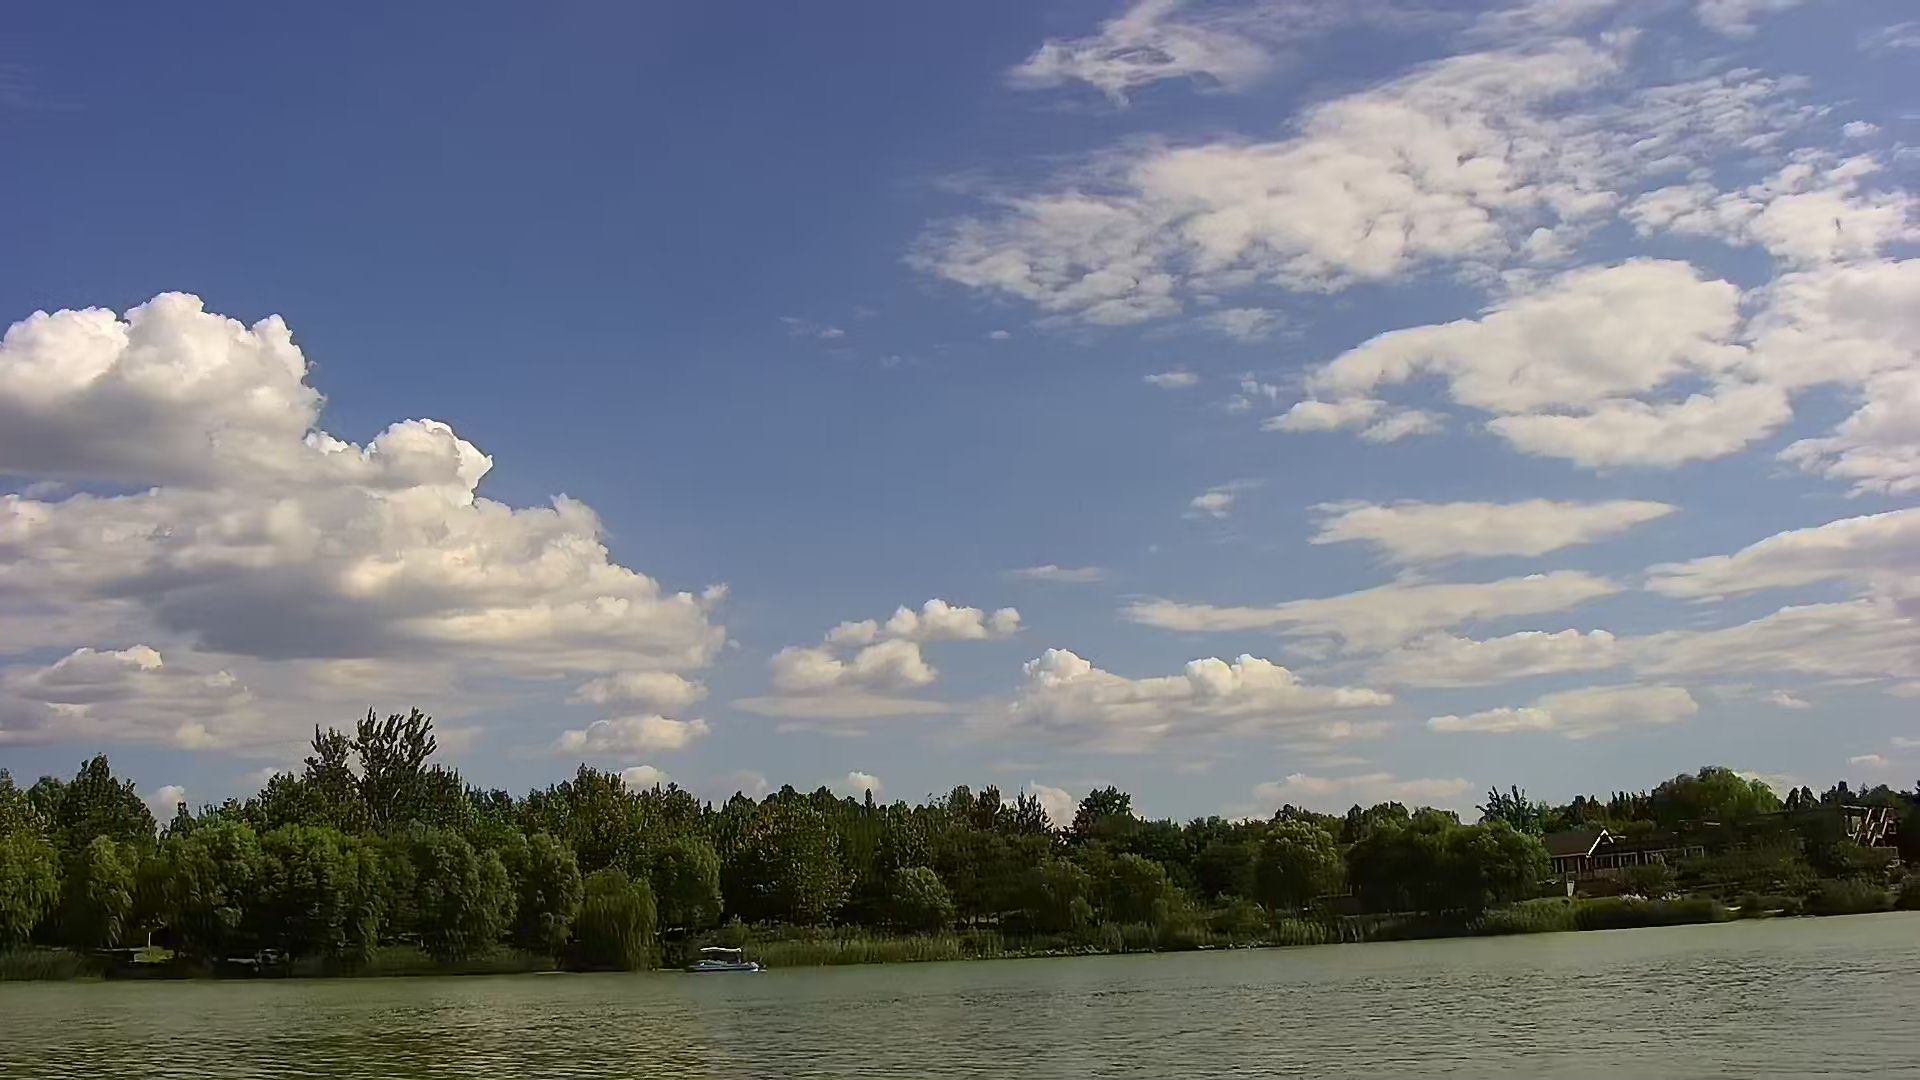boat: (684, 940, 771, 977)
